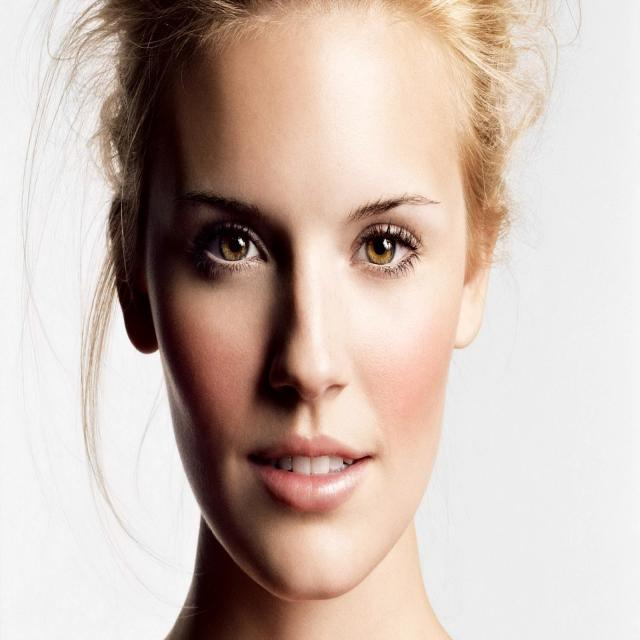earlobe: (109, 193, 160, 356), (452, 199, 501, 352)
